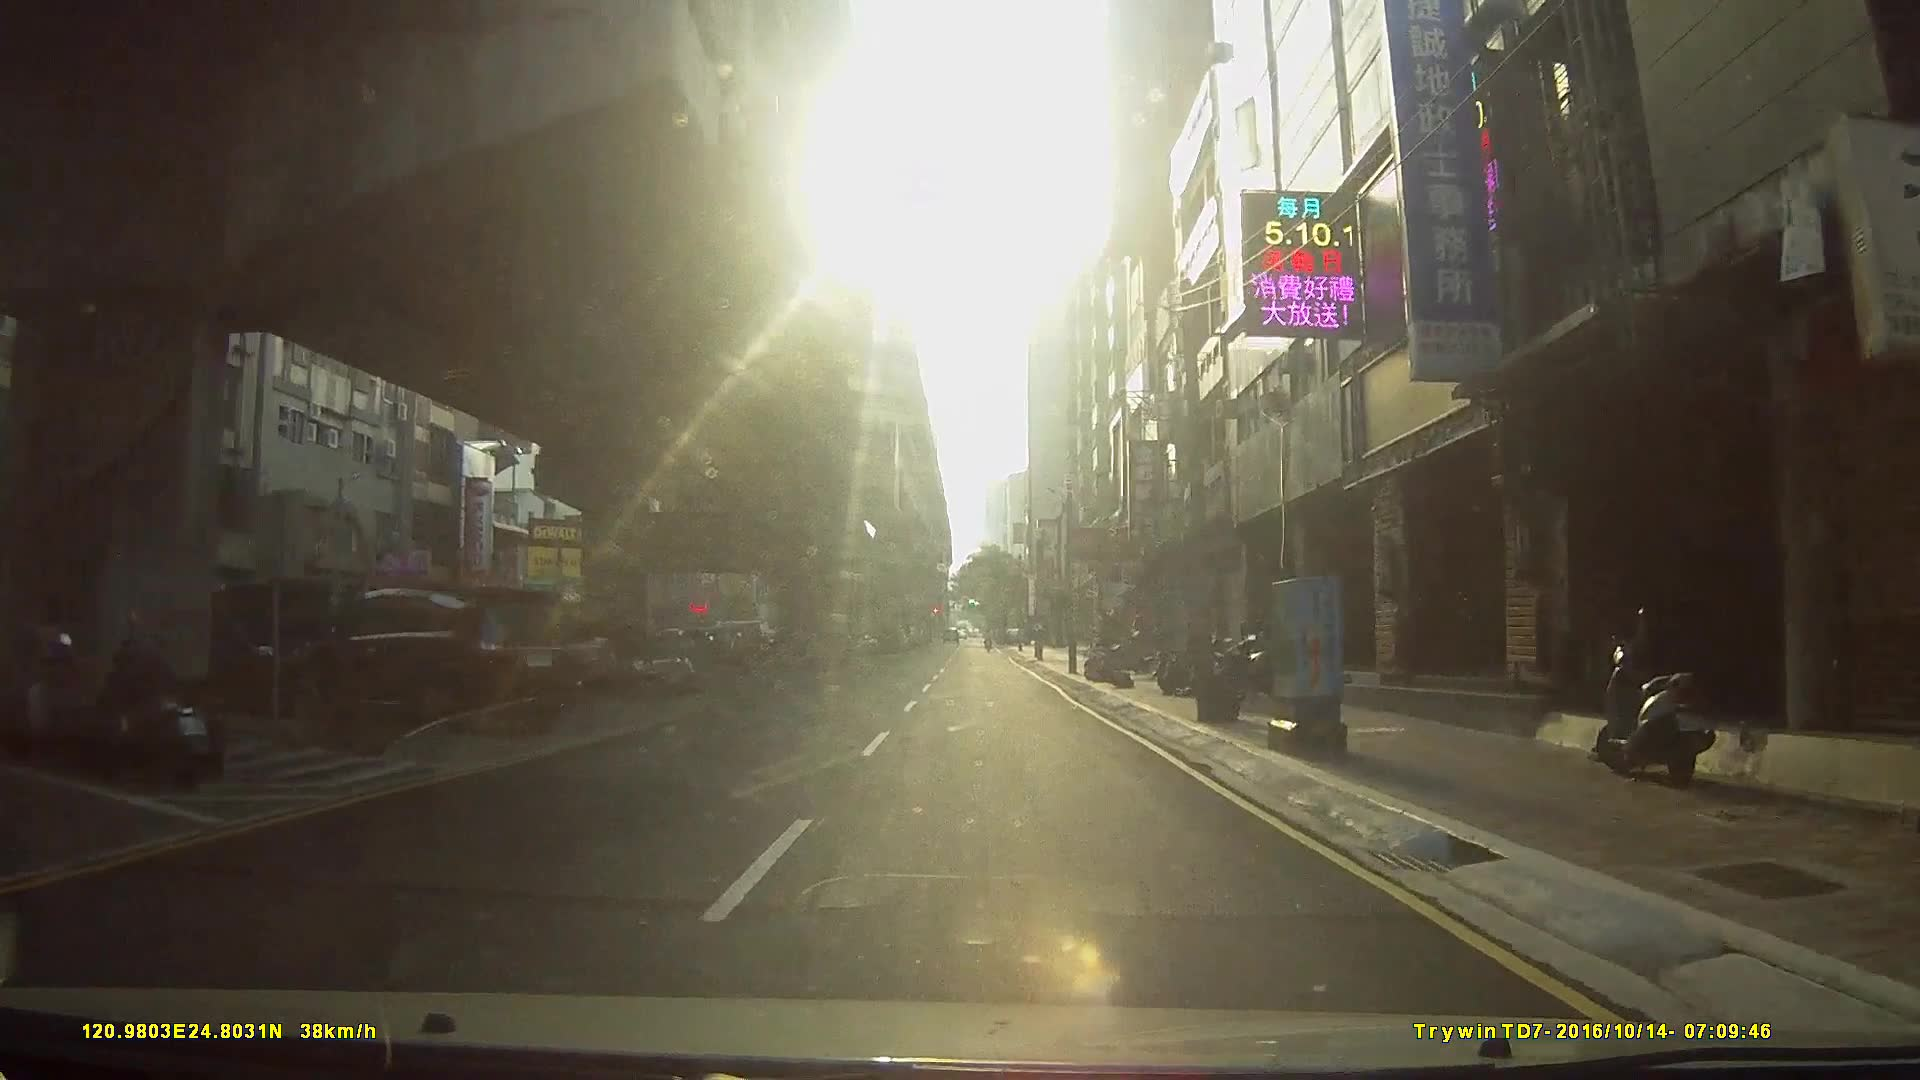vehicle: (280, 580, 580, 731), (138, 574, 330, 704), (564, 620, 692, 694)
